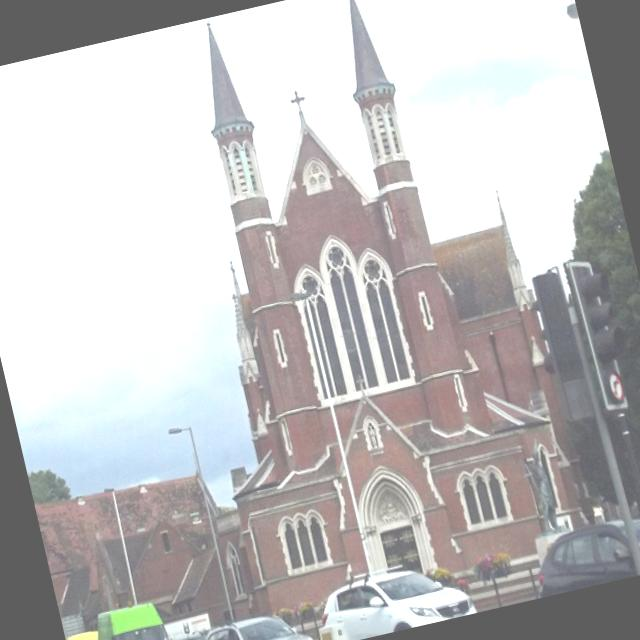Vehicle: (312, 551, 478, 640), (524, 496, 640, 597), (193, 605, 315, 640), (85, 597, 181, 640), (141, 628, 215, 640)
